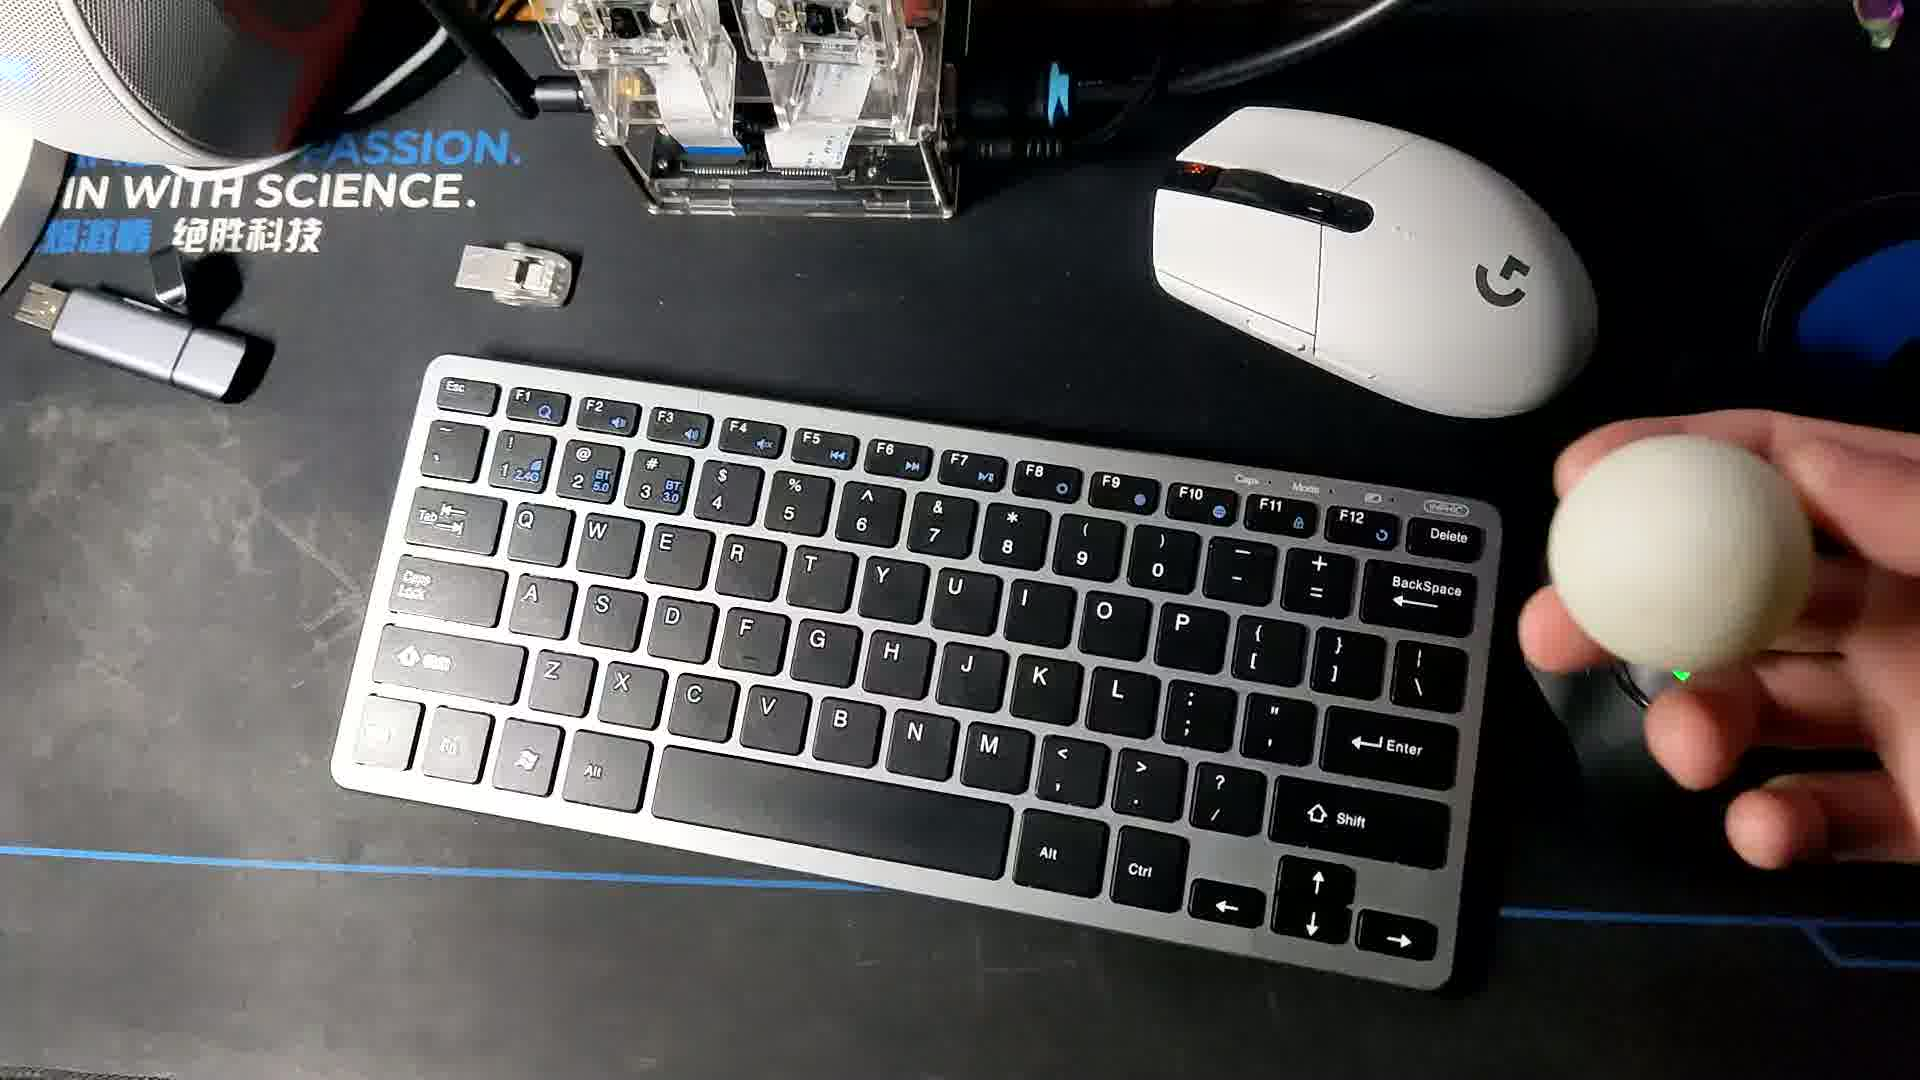Ball: (1549, 429, 1803, 673)
